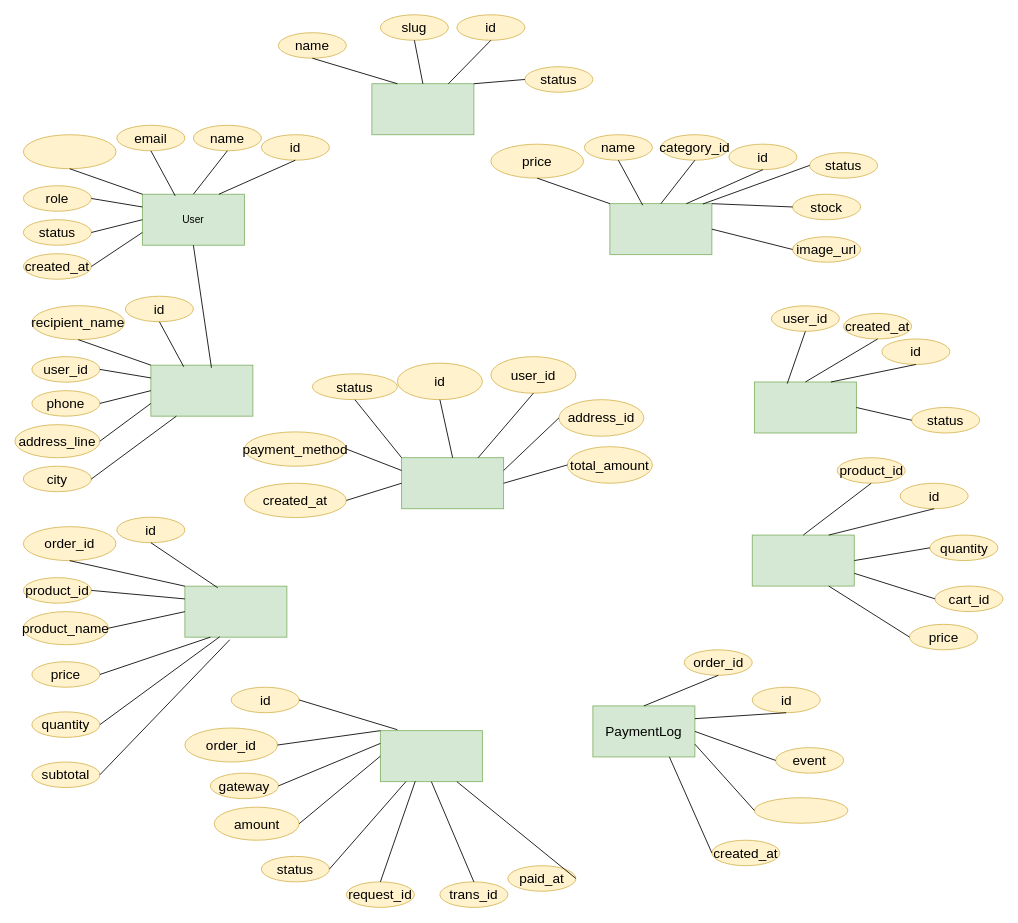
This 1018x923 diagram has some shape labels left out. Here are the shapes that lost their labels. From the top down, the centre of each, then its label:
At (422,109): "Category".
At (69,151): "password_hash".
At (660,229): "Product".
At (201,390): "Address".
At (805,407): "Cart".
At (452,483): "Order".
At (802,560): "CartItem".
At (235,611): "OrderItem".
At (431,756): "Payment".
At (801,810): "raw_payload".
